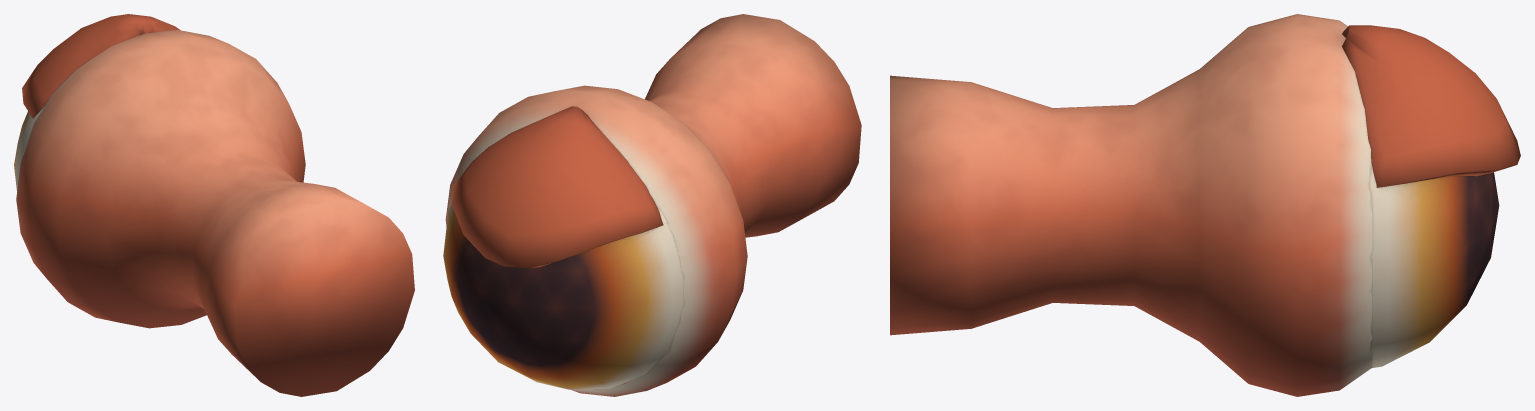
File: part_eye_spot.glb
The picture shows the model from 3 angles, left to right: view 1: azimuth 30°, elevation 25°; view 2: azimuth 150°, elevation 25°; view 3: azimuth 270°, elevation 25°; orthographic projection. The views are drawn at different scales.
Visible parts, largest first — view 1: EyeSpot, EyeSpotLid; view 2: EyeSpot, EyeSpotLid; view 3: EyeSpot, EyeSpotLid.
Boxes of the visible parts, x1,y1,x2,y2 form: EyeSpot: [14, 30, 414, 396]; EyeSpotLid: [22, 14, 180, 118]; EyeSpot: [443, 14, 861, 396]; EyeSpotLid: [451, 106, 663, 267]; EyeSpot: [890, 14, 1499, 396]; EyeSpotLid: [1342, 25, 1520, 187].
Bounding box in the file's own units: 0.118 × 0.1196 × 0.1936.
1 material, 1 textured.
